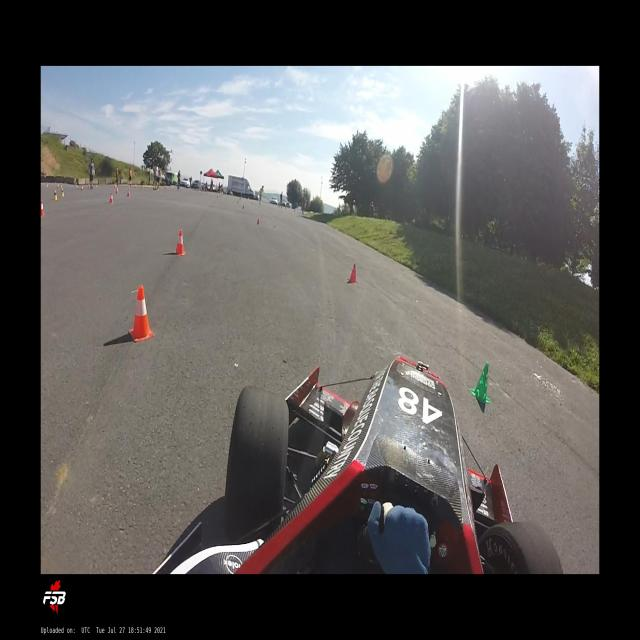orange_cone: (129, 285, 155, 342), (174, 230, 186, 256), (347, 262, 358, 284), (41, 199, 46, 217), (109, 193, 114, 203), (256, 217, 260, 226), (115, 187, 118, 194), (127, 190, 130, 197), (81, 186, 84, 192), (88, 184, 90, 189)
unknown_cone: (469, 361, 490, 403)
yellow_cone: (53, 191, 58, 200), (61, 190, 65, 197)
